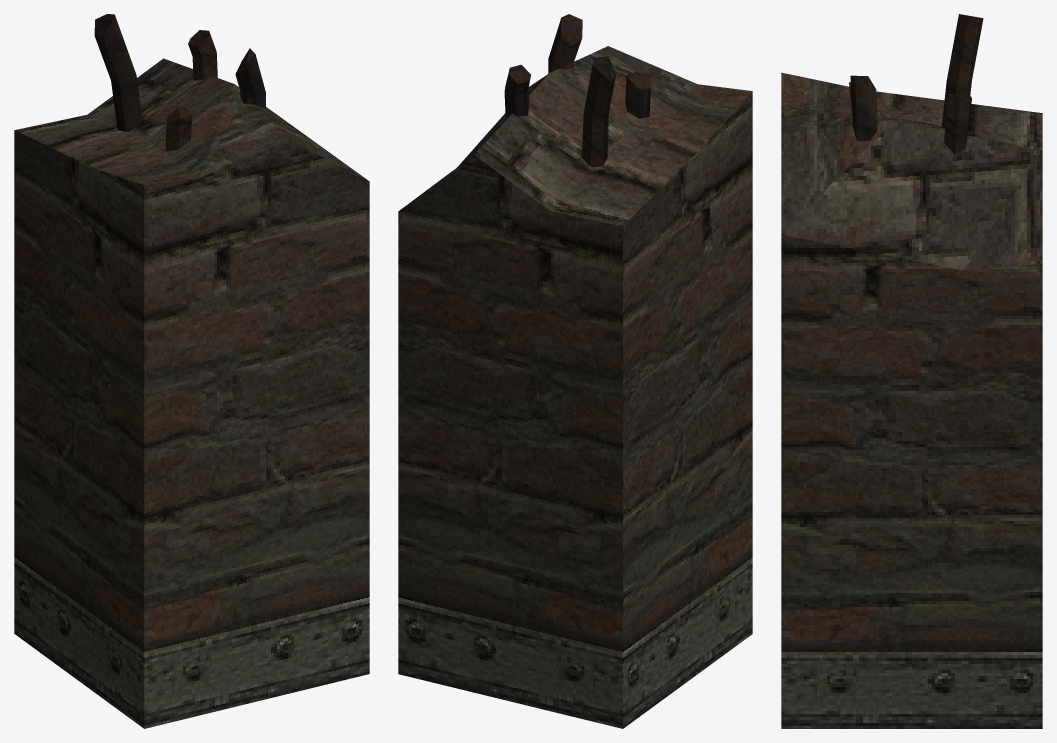
File: pillar_hr_1_broken.glb
3 renders of one model, left to right at view 1: azimuth 30°, elevation 25°; view 2: azimuth 150°, elevation 25°; view 3: azimuth 270°, elevation 25°, orthographic.
Visible parts, largest first — view 1: pillar_hr_1_broken; view 2: pillar_hr_1_broken; view 3: pillar_hr_1_broken.
Boxes of the visible parts, left/top/right/bottom form: pillar_hr_1_broken: left=14, top=14, right=369, bottom=728; pillar_hr_1_broken: left=398, top=14, right=752, bottom=728; pillar_hr_1_broken: left=781, top=14, right=1042, bottom=728.
Bounding box in the file's own units: 0.6 × 1.6 × 0.6.
2 materials, 2 textured.
